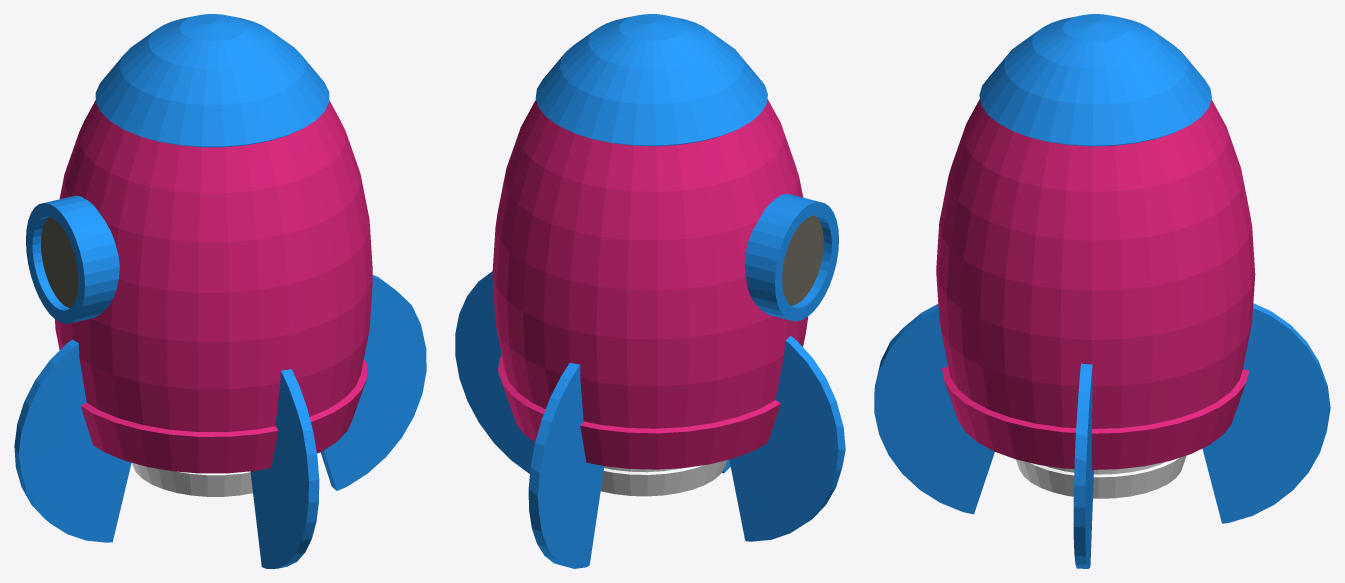
The model's file is FogueteGirando.glb.
3 renders of one model, left to right at view 1: azimuth 30°, elevation 25°; view 2: azimuth 150°, elevation 25°; view 3: azimuth 270°, elevation 25°, orthographic.
Visible parts, largest first — view 1: Esfera UV, Esfera UV.002, Cilindro.002, Cilindro.003, Cilindro.001, Cilindro.004, Esfera UV.001, Cilindro.005; view 2: Esfera UV, Esfera UV.002, Cilindro.002, Cilindro, Cilindro.003, Cilindro.004, Esfera UV.001, Cilindro.005; view 3: Esfera UV, Esfera UV.002, Cilindro, Cilindro.001, Esfera UV.001, Cilindro.003.
Part boxes in pixels (x1,y1,x2,y2): Esfera UV: [55, 100, 372, 473]; Esfera UV.002: [95, 14, 329, 147]; Cilindro.002: [14, 339, 131, 542]; Cilindro.003: [320, 275, 426, 490]; Cilindro.001: [250, 369, 319, 568]; Cilindro.004: [26, 195, 119, 323]; Esfera UV.001: [132, 462, 252, 496]; Cilindro.005: [41, 217, 78, 307]; Esfera UV: [492, 99, 808, 469]; Esfera UV.002: [535, 14, 767, 146]; Cilindro.002: [729, 336, 845, 541]; Cilindro: [528, 363, 604, 568]; Cilindro.003: [455, 271, 534, 473]; Cilindro.004: [744, 193, 838, 321]; Esfera UV.001: [600, 460, 727, 496]; Cilindro.005: [782, 215, 823, 305]; Esfera UV: [936, 99, 1255, 469]; Esfera UV.002: [979, 14, 1211, 146]; Cilindro: [1202, 303, 1330, 523]; Cilindro.001: [874, 304, 994, 514]; Esfera UV.001: [1016, 455, 1186, 498]; Cilindro.003: [1073, 363, 1093, 568].
Size of the model in its own units: 2.86 by 3.43 by 2.86.
